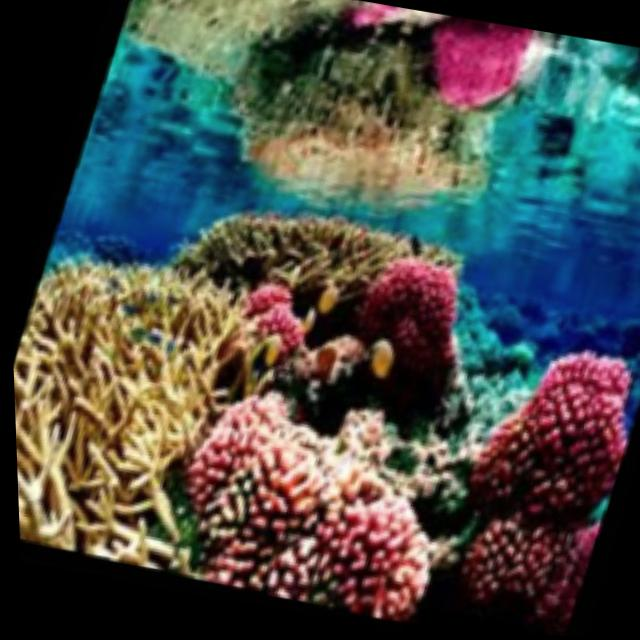Dead Coral: (162, 175, 391, 324)
